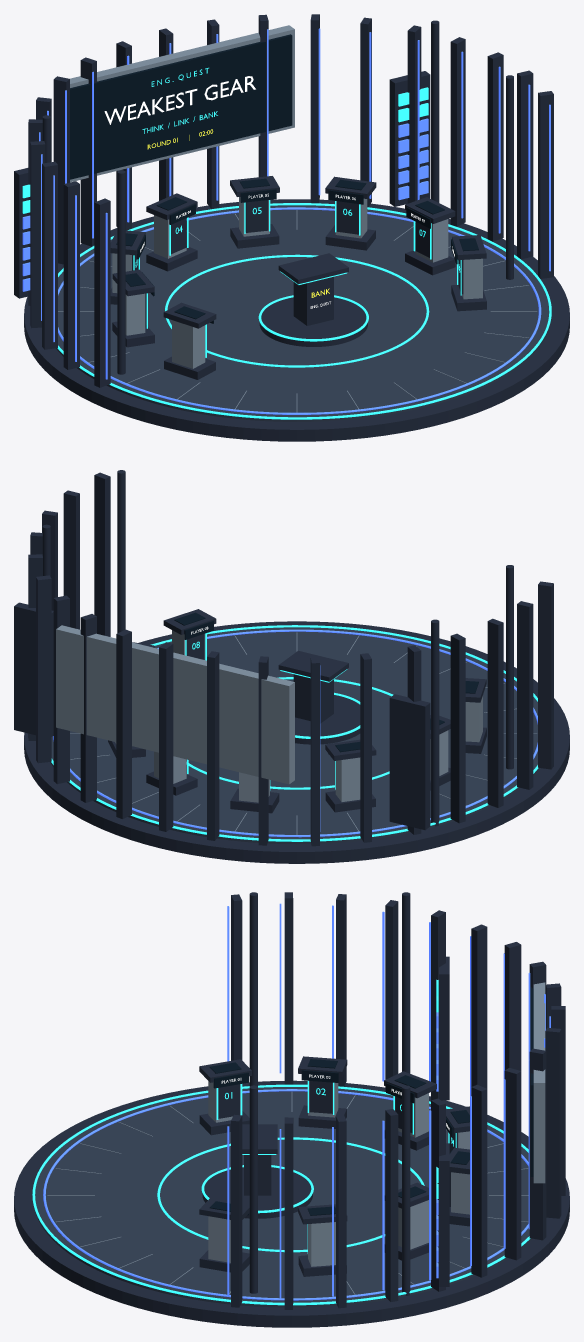
File: studio.glb
3 renders of one model, top to bottom at view 1: azimuth 30°, elevation 25°; view 2: azimuth 150°, elevation 25°; view 3: azimuth 270°, elevation 25°, orthographic.
Parts seen in each view (by area): view 1: Competition stage, Main screen, Foundation, Host dais, Main screen surround, Backdrop fin 17, Backdrop fin 00, Backdrop fin 16, Backdrop fin 01, Backdrop fin 02, Backdrop fin 15, Backdrop fin 18 (+40 smaller); view 2: Competition stage, Main screen surround, Foundation, Chain tower, Chain tower.001, Backdrop fin 01, Backdrop fin 02, Backdrop fin 00, Backdrop fin 03, Backdrop fin 13, Backdrop fin 10, Backdrop fin 09 (+26 smaller); view 3: Competition stage, Foundation, Backdrop fin 12, Backdrop fin 10, Backdrop fin 13, Backdrop fin 05, Backdrop fin 15, Stage light ring, Backdrop fin 03, Stage light ring.001, Main screen surround, Backdrop fin 18 (+29 smaller).
Boxes of the visible parts, <box> form: Competition stage: <box>56,205,549,421</box>; Main screen: <box>70,34,292,179</box>; Foundation: <box>24,199,569,441</box>; Host dais: <box>259,297,367,346</box>; Main screen surround: <box>69,25,294,182</box>; Backdrop fin 17: <box>517,70,533,259</box>; Backdrop fin 00: <box>94,198,110,387</box>; Backdrop fin 16: <box>487,52,503,241</box>; Backdrop fin 01: <box>63,181,79,369</box>; Backdrop fin 02: <box>42,161,57,349</box>; Backdrop fin 15: <box>450,37,465,226</box>; Backdrop fin 18: <box>538,91,553,278</box>; Competition stage: <box>50,627,539,844</box>; Main screen surround: <box>56,625,294,784</box>; Foundation: <box>24,621,569,863</box>; Chain tower: <box>389,694,430,830</box>; Chain tower.001: <box>14,602,53,736</box>; Backdrop fin 01: <box>517,601,533,789</box>; Backdrop fin 02: <box>487,618,503,807</box>; Backdrop fin 00: <box>538,581,553,769</box>; Backdrop fin 03: <box>450,633,465,823</box>; Backdrop fin 13: <box>36,575,51,763</box>; Backdrop fin 10: <box>116,629,131,818</box>; Backdrop fin 09: <box>159,642,173,831</box>; Competition stage: <box>34,1087,531,1307</box>; Foundation: <box>14,1080,569,1327</box>; Backdrop fin 12: <box>504,1068,521,1260</box>; Backdrop fin 10: <box>545,1027,561,1218</box>; Backdrop fin 13: <box>471,1084,487,1277</box>; Backdrop fin 05: <box>471,924,487,1088</box>; Backdrop fin 15: <box>385,1109,398,1301</box>; Stage light ring: <box>32,1084,530,1305</box>; Backdrop fin 03: <box>385,900,398,1091</box>; Stage light ring.001: <box>43,1089,528,1300</box>; Main screen surround: <box>533,982,545,1183</box>; Backdrop fin 18: <box>231,1114,242,1307</box>.
Bounding box in the file's own units: 14.6 × 6.36 × 14.6.
